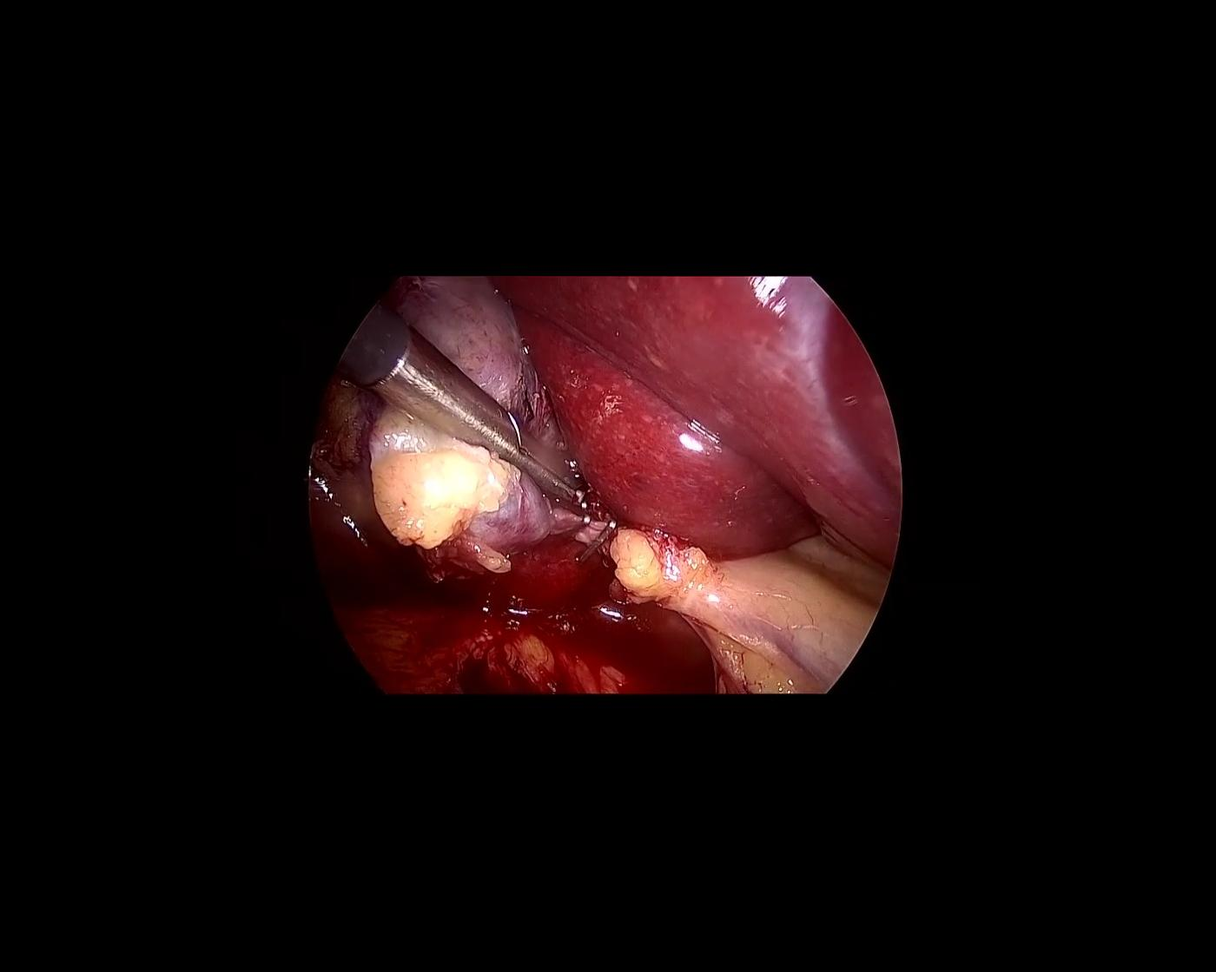Forceps: (330, 303, 592, 541)
Gallbladder: (312, 248, 592, 593)
Liver: (491, 276, 893, 567)
